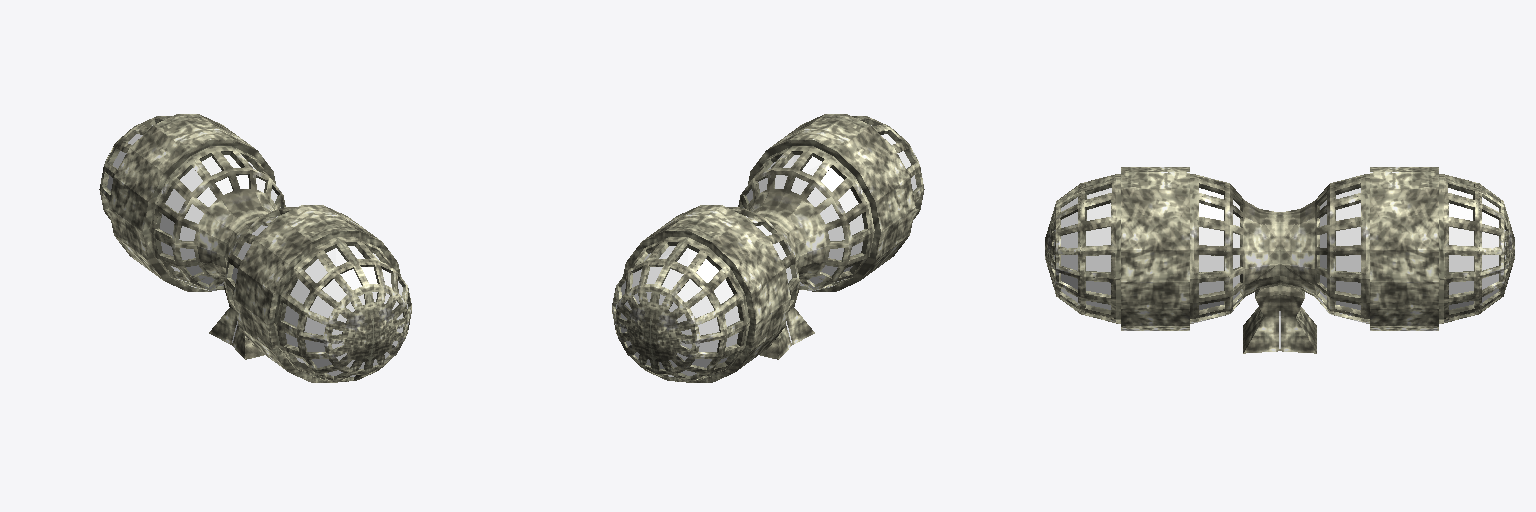
The picture shows the model from 3 angles: view 1: azimuth 30°, elevation 25°; view 2: azimuth 150°, elevation 25°; view 3: azimuth 270°, elevation 25°; orthographic projection.
Parts seen in each view (by area): view 1: Cylinder; view 2: Cylinder; view 3: Cylinder.
Boxes of the visible parts, box(x1,y1,x2,y2) form: Cylinder: box(99, 114, 411, 382); Cylinder: box(612, 114, 924, 382); Cylinder: box(1045, 167, 1514, 353).
Size of the model in its own units: 2.4 by 2.81 by 7.16.
Materials: 1 (1 with a texture image).